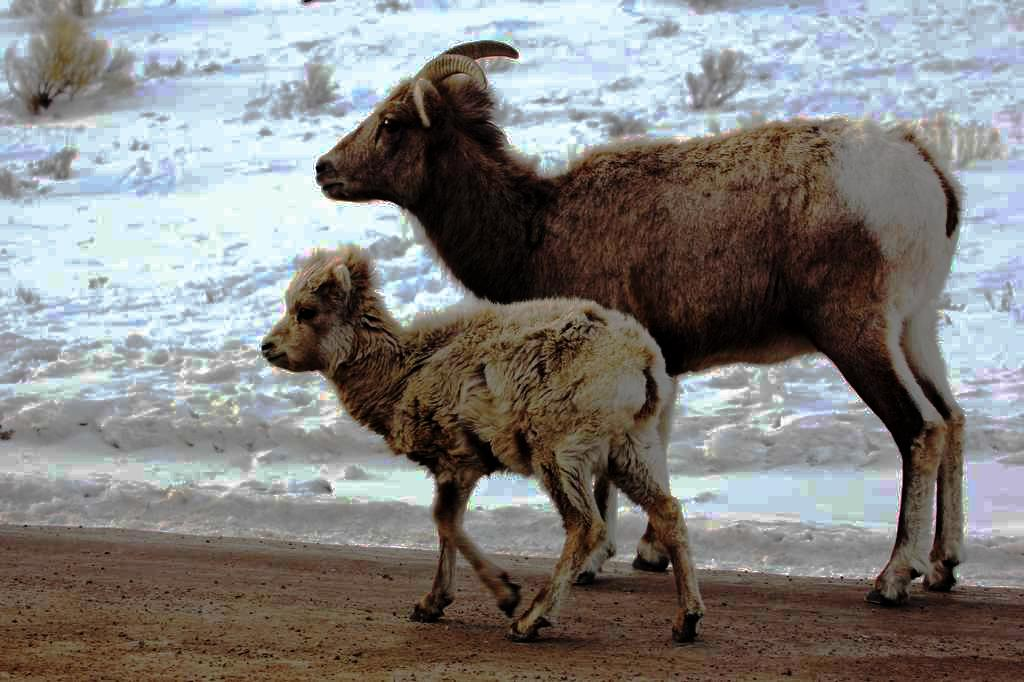Sheep: (315, 40, 965, 604), (261, 243, 703, 650)
